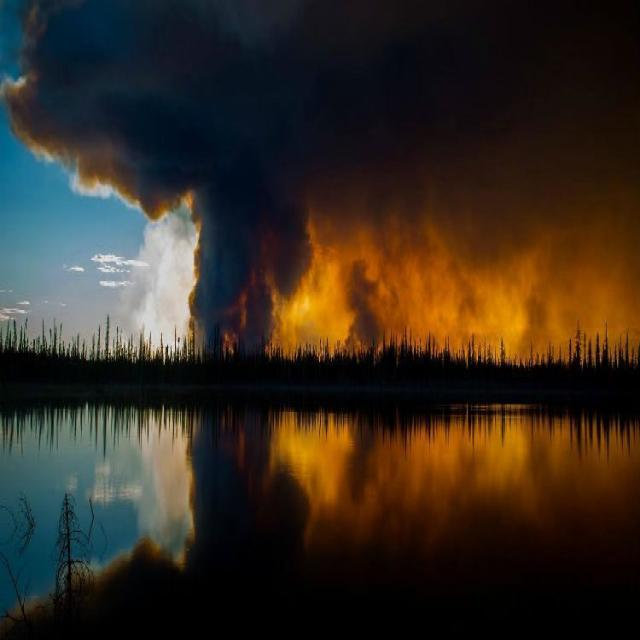Smoke: (32, 0, 640, 347)
